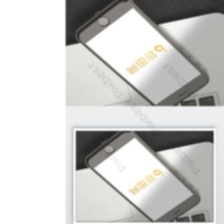phone: (70, 0, 211, 111), (82, 128, 202, 223)
